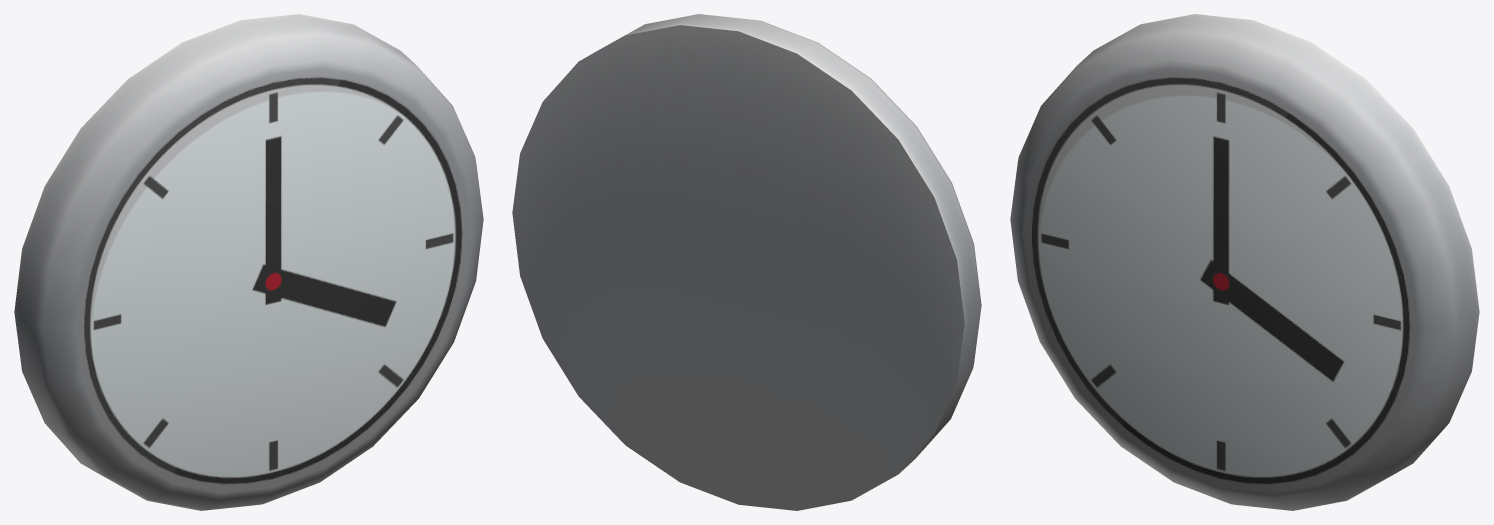
File: OfficeWallClock01.FBX
The picture shows the model from 3 angles, left to right: view 1: azimuth 30°, elevation 25°; view 2: azimuth 150°, elevation 25°; view 3: azimuth 330°, elevation 25°; orthographic projection.
Visible parts, largest first — view 1: OfficeWallClock01; view 2: OfficeWallClock01; view 3: OfficeWallClock01.
Part boxes in pixels (bbox=[...]): OfficeWallClock01: bbox=[14, 14, 483, 510]; OfficeWallClock01: bbox=[512, 14, 981, 510]; OfficeWallClock01: bbox=[1010, 14, 1479, 510].
Size of what is drawn, in the model's own units: 0.44 by 0.44 by 0.0549.
